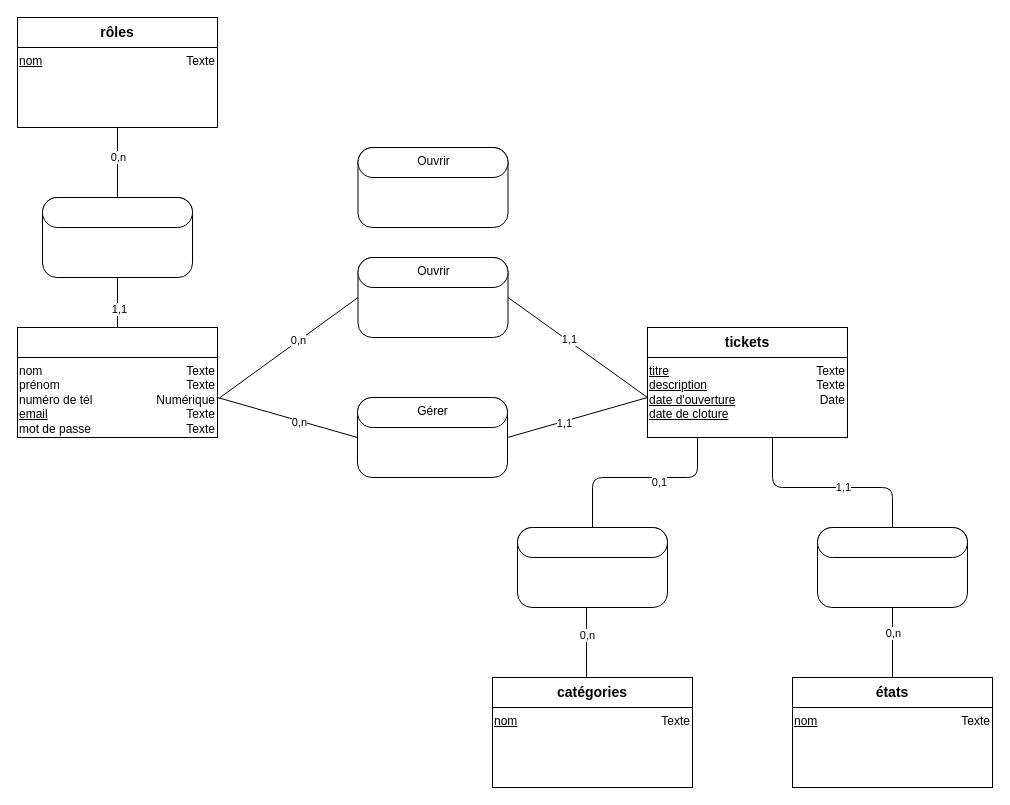
This 1010x805 diagram has some shape labels left out. Here are the shapes that lost their labels. From the top down, the box of each, then its label:
(42, 196, 192, 228): Avoir
(16, 326, 218, 358): personnes
(516, 526, 668, 558): Possèder
(816, 526, 968, 558): être
